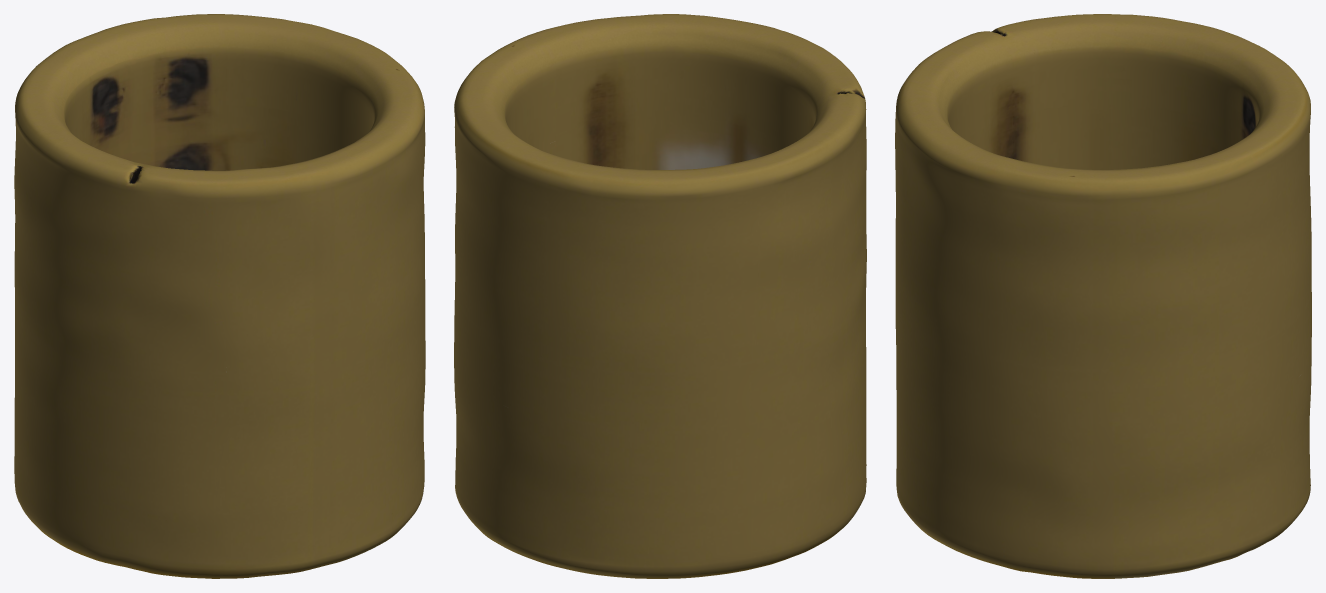
Rendered from sleeve bearing 3d model.glb.
The picture shows the model from 3 angles, left to right: view 1: azimuth 30°, elevation 25°; view 2: azimuth 150°, elevation 25°; view 3: azimuth 270°, elevation 25°; orthographic projection.
Parts seen in each view (by area): view 1: tripo_node_d14f4015-d831-433a-ae91-a4c99b7934b4; view 2: tripo_node_d14f4015-d831-433a-ae91-a4c99b7934b4; view 3: tripo_node_d14f4015-d831-433a-ae91-a4c99b7934b4.
Part boxes in pixels (left/top/right/bottom): tripo_node_d14f4015-d831-433a-ae91-a4c99b7934b4: left=14, top=14, right=425, bottom=578; tripo_node_d14f4015-d831-433a-ae91-a4c99b7934b4: left=454, top=14, right=866, bottom=578; tripo_node_d14f4015-d831-433a-ae91-a4c99b7934b4: left=895, top=14, right=1311, bottom=578.
Size of the model in its own units: 0.9174 by 0.9809 by 0.9263.
Materials: 1 (1 with a texture image).
